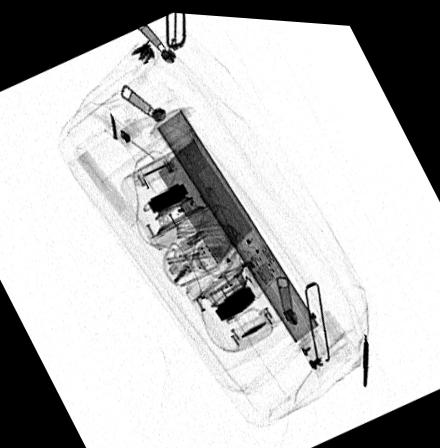Powerbank: (150, 127, 281, 305)
